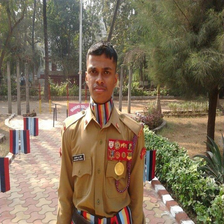no_mask: (86, 56, 116, 99)
